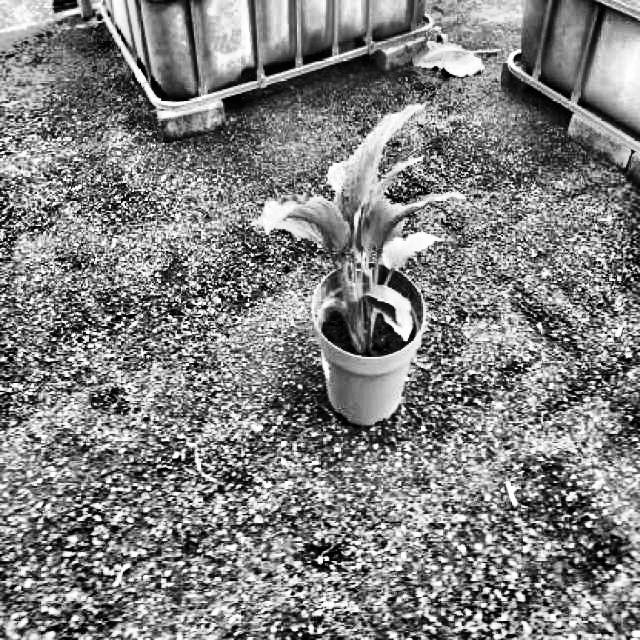plants: (253, 105, 464, 350)
